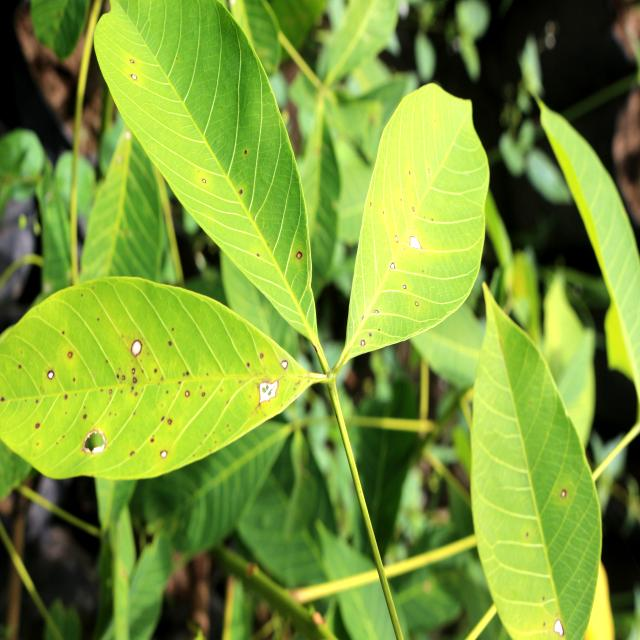Colletotrichum: (131, 340, 142, 357), (47, 370, 55, 380), (160, 450, 168, 458), (282, 360, 288, 370), (296, 251, 302, 259), (390, 263, 395, 269), (131, 74, 137, 79), (185, 391, 190, 396), (133, 377, 137, 383), (68, 352, 72, 358), (361, 340, 365, 346), (395, 235, 398, 243), (202, 178, 206, 182), (415, 302, 419, 306), (130, 59, 134, 63), (239, 190, 242, 194), (244, 150, 247, 154), (403, 285, 406, 289), (369, 333, 372, 336), (375, 310, 378, 313), (412, 207, 414, 211)
